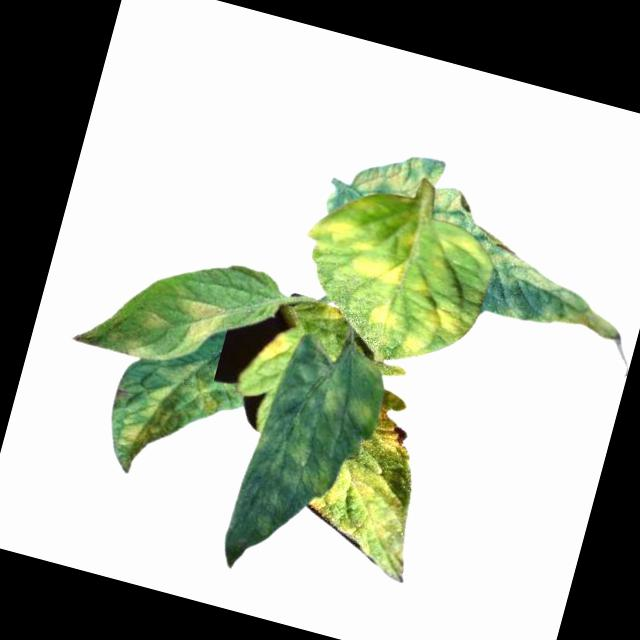Leaf_Mold: (282, 180, 503, 379), (218, 334, 387, 591), (294, 451, 432, 585), (481, 239, 640, 350), (113, 348, 232, 481), (346, 139, 448, 216), (369, 406, 421, 461), (180, 298, 227, 347), (255, 324, 294, 369), (137, 309, 175, 337)
